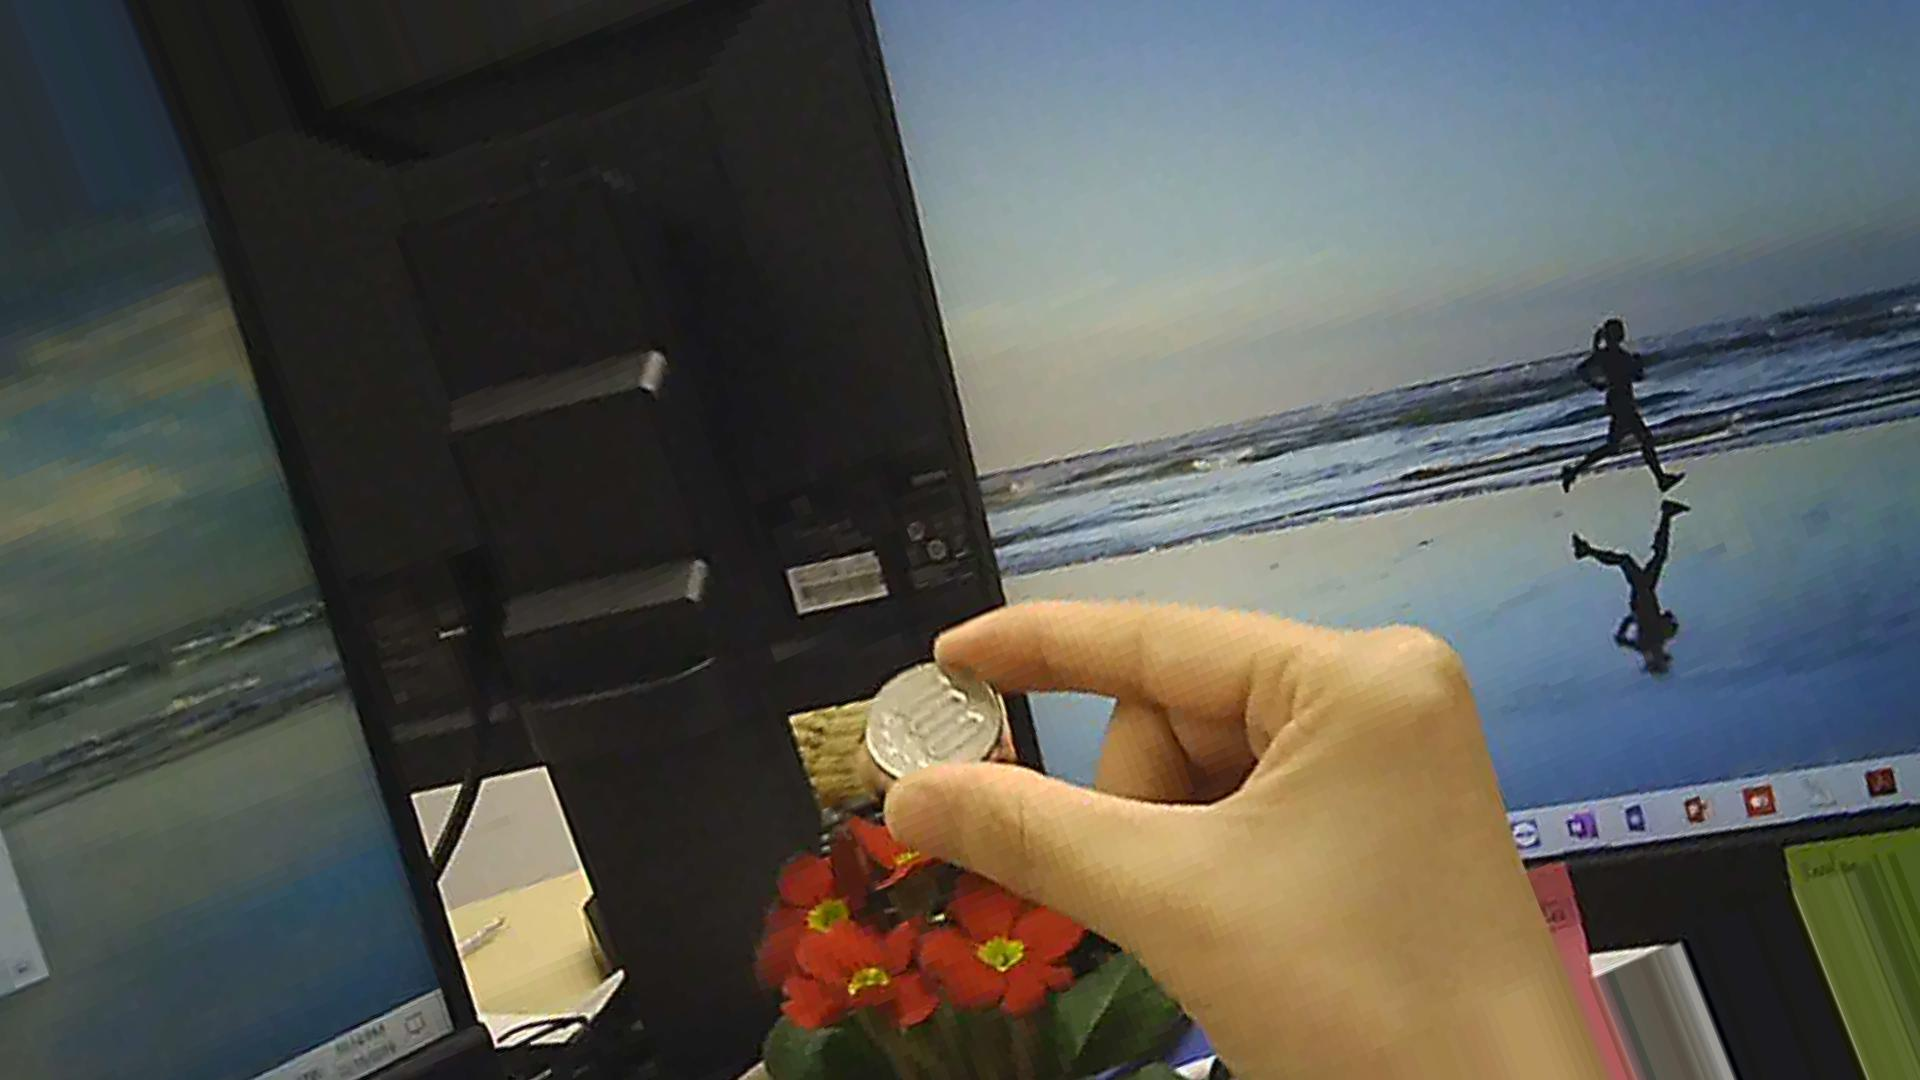100 Yen: (851, 659, 1023, 781)
